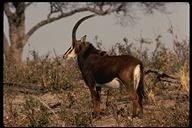antelope: (62, 14, 145, 118)
grass: (4, 50, 62, 91)
tree: (4, 3, 60, 61)
